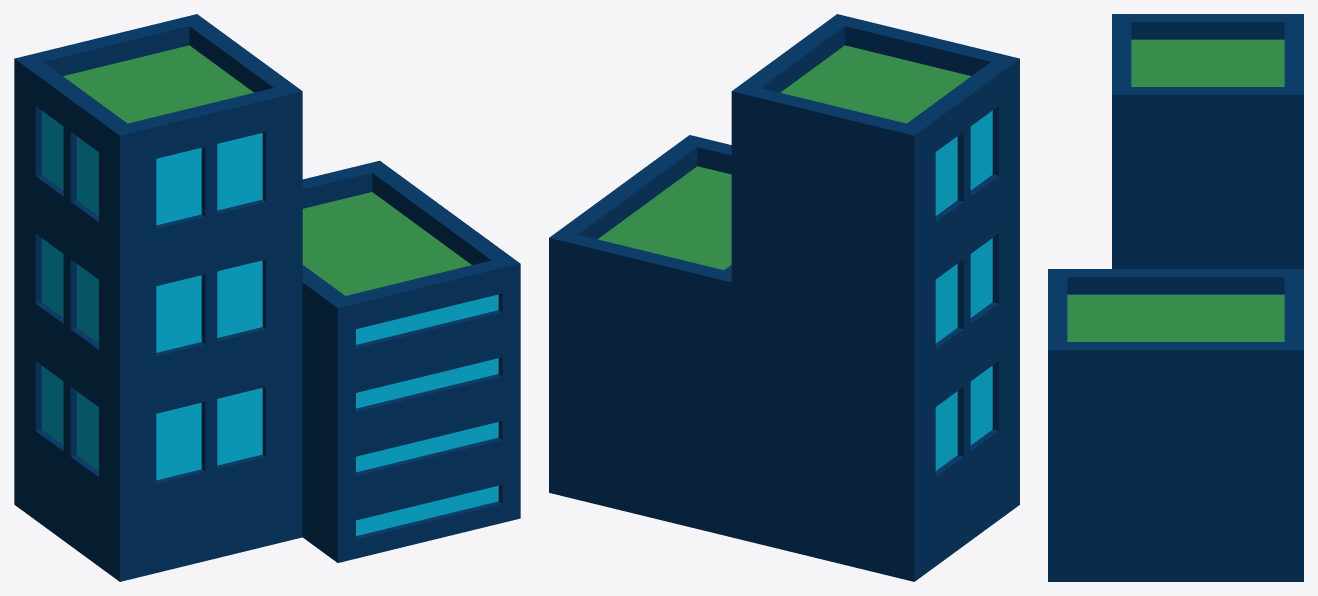
The model's file is library.glb.
The picture shows the model from 3 angles, left to right: view 1: azimuth 30°, elevation 25°; view 2: azimuth 150°, elevation 25°; view 3: azimuth 270°, elevation 25°; orthographic projection. The views are drawn at different scales.
Parts seen in each view (by area): view 1: House03; view 2: House03; view 3: House03.
Part boxes in pixels (x1,y1,x2,y2): House03: (14, 14, 520, 581); House03: (549, 14, 1019, 581); House03: (1048, 14, 1303, 581).
Bounding box in the file's own units: 6 × 7 × 4.
1 material, 1 textured.
